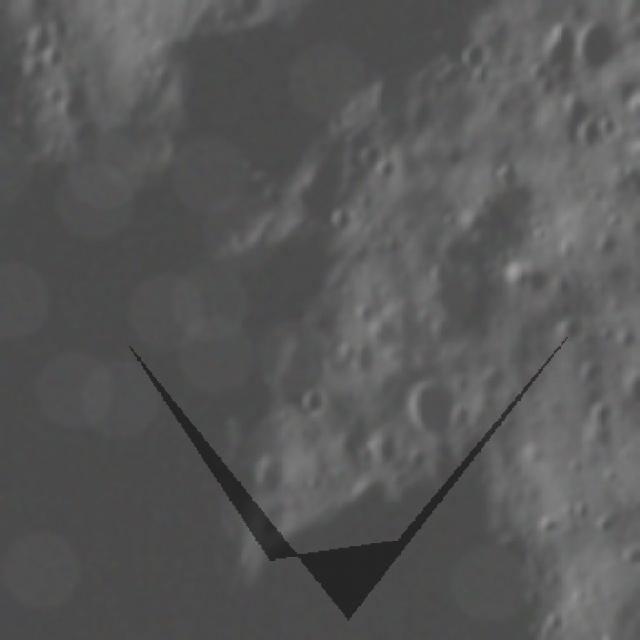crater: (410, 380, 464, 442), (572, 20, 620, 74), (355, 140, 390, 174), (293, 389, 330, 420), (489, 158, 518, 192), (336, 211, 358, 234)
